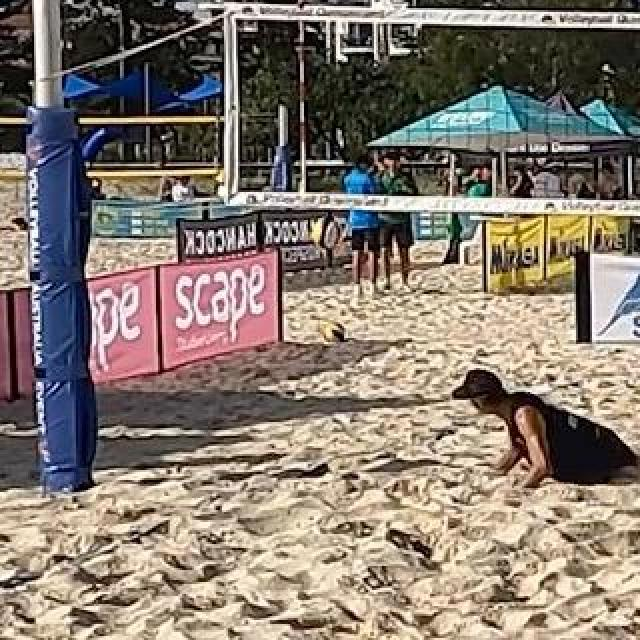volleyball: (312, 217, 342, 249), (322, 321, 344, 343)
